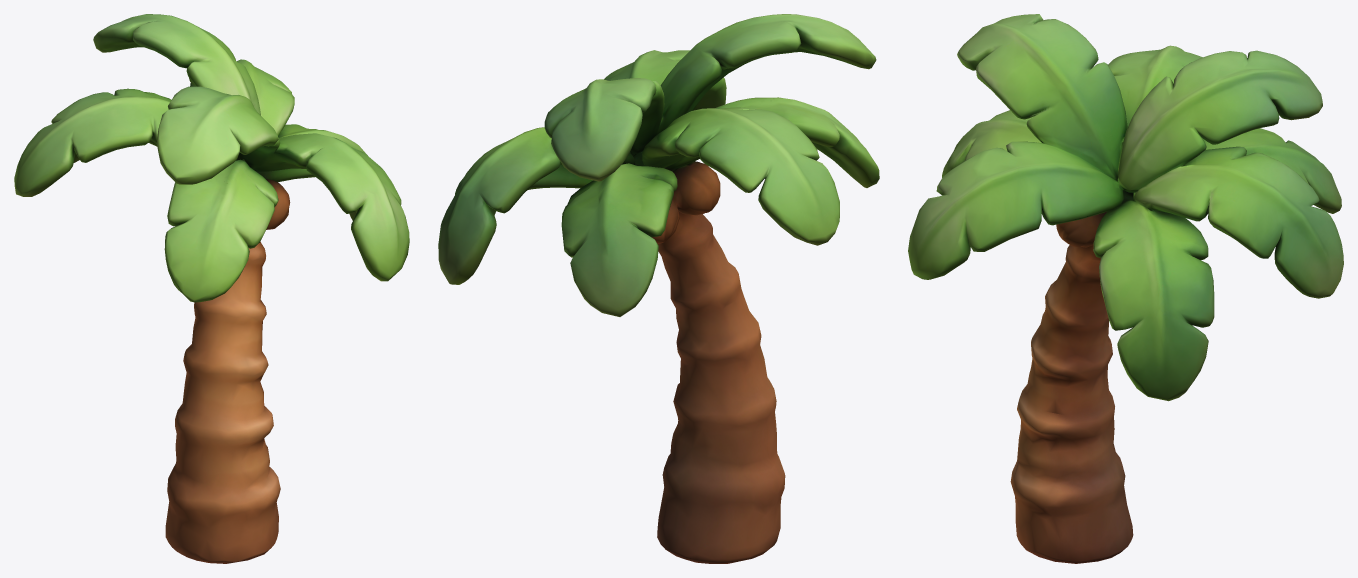
File: palm_2k.glb
The picture shows the model from 3 angles, left to right: view 1: azimuth 30°, elevation 25°; view 2: azimuth 150°, elevation 25°; view 3: azimuth 270°, elevation 25°; orthographic projection. The views are drawn at different scales.
Parts seen in each view (by area): view 1: tripo_node_2e10e8a2-3fec-4771-bced-0935fc4a648e; view 2: tripo_node_2e10e8a2-3fec-4771-bced-0935fc4a648e; view 3: tripo_node_2e10e8a2-3fec-4771-bced-0935fc4a648e.
Boxes of the visible parts, x1,y1,x2,y2 form: tripo_node_2e10e8a2-3fec-4771-bced-0935fc4a648e: [14, 14, 409, 563]; tripo_node_2e10e8a2-3fec-4771-bced-0935fc4a648e: [438, 14, 879, 563]; tripo_node_2e10e8a2-3fec-4771-bced-0935fc4a648e: [908, 14, 1343, 563].
Bounding box in the file's own units: 0.7767 × 0.9807 × 0.7802.
1 material, 1 textured.
